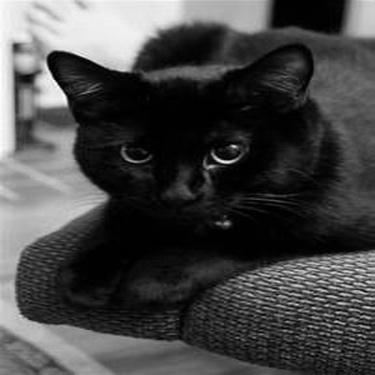cat: (47, 16, 367, 313)
